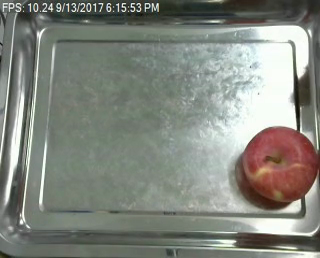Apple: (239, 123, 320, 204)
